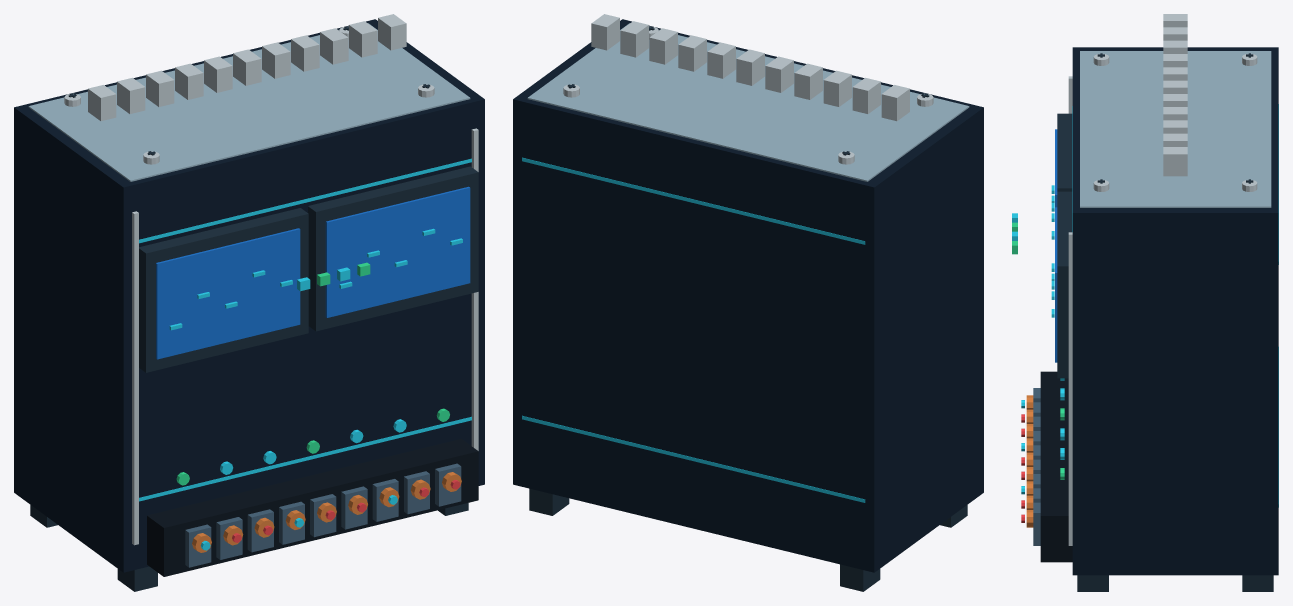
The model's file is 60_L79_HybridBondingPLCRack.fbx.
The picture shows the model from 3 angles, left to right: view 1: azimuth 30°, elevation 25°; view 2: azimuth 150°, elevation 25°; view 3: azimuth 270°, elevation 25°; orthographic projection. The views are drawn at different scales.
Parts seen in each view (by area): view 1: HybridBondingPLCRack; view 2: HybridBondingPLCRack; view 3: HybridBondingPLCRack.
Part boxes in pixels (<box>): HybridBondingPLCRack: <box>14,14,484,591</box>; HybridBondingPLCRack: <box>513,14,983,591</box>; HybridBondingPLCRack: <box>1012,14,1278,591</box>.
Bounding box in the file's own units: 162 × 196 × 110.
